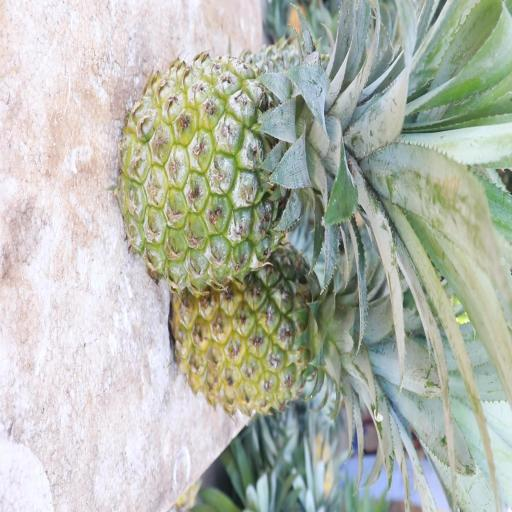------------------------------: (112, 50, 386, 300)
Pineapple - v8 v1: (162, 232, 397, 426)
